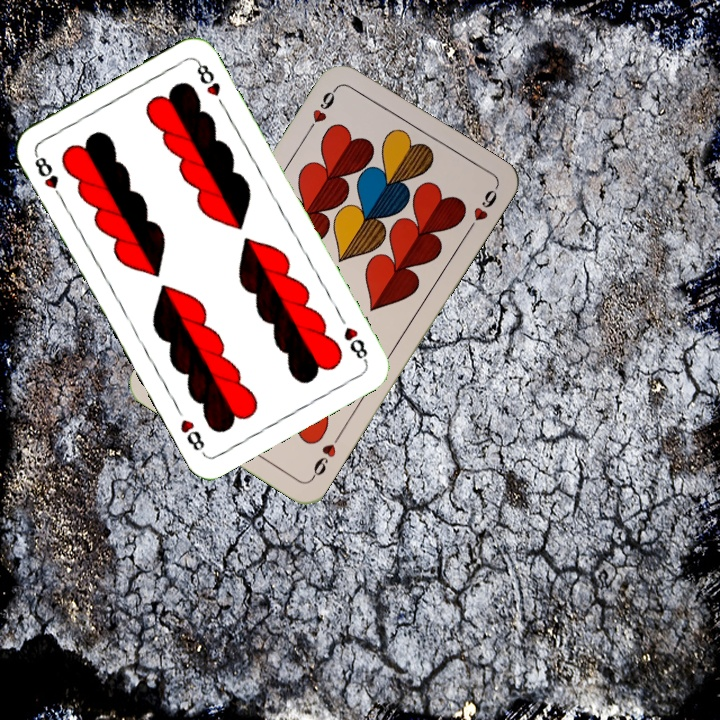H8: (30, 149, 66, 203), (339, 322, 370, 365)
H9: (303, 83, 341, 136), (307, 429, 344, 482)
